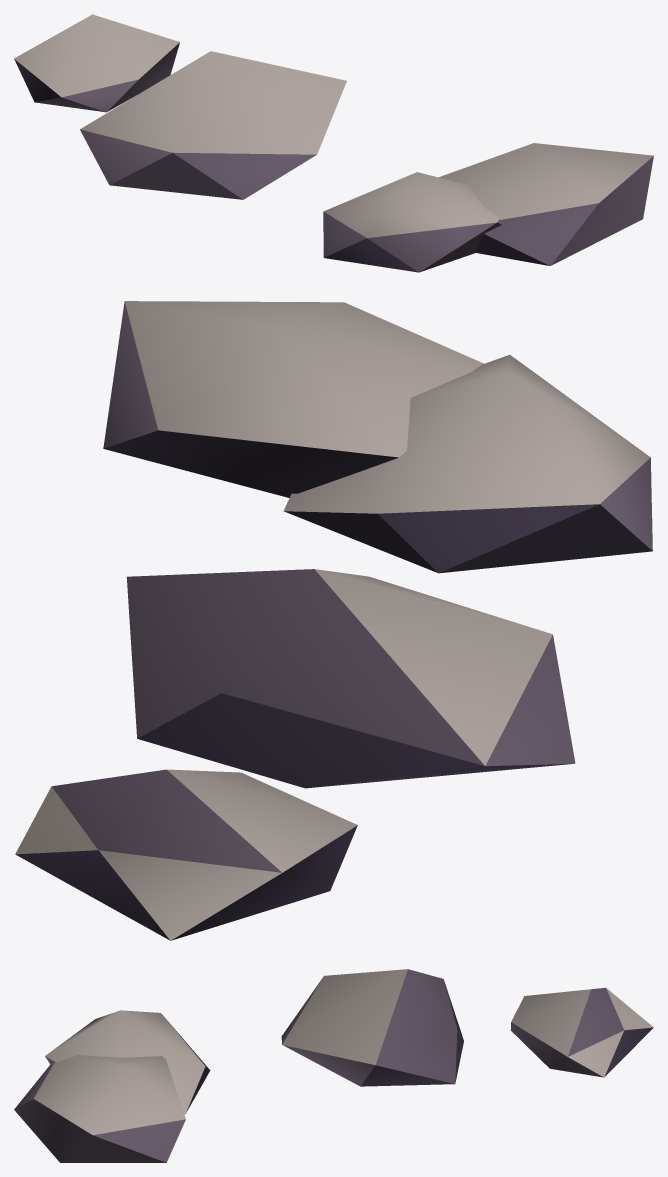
Rendered from PumiceRocks.fbx.
The picture shows the model from 3 angles, top to bottom: view 1: azimuth 30°, elevation 25°; view 2: azimuth 150°, elevation 25°; view 3: azimuth 270°, elevation 25°; orthographic projection. The views are drawn at different scales.
Parts seen in each view (by area): view 1: PumiceRocks; view 2: PumiceRocks; view 3: PumiceRocks.
Boxes of the visible parts, left/top/right/bottom form: PumiceRocks: left=14, top=14, right=653, bottom=272; PumiceRocks: left=15, top=301, right=652, bottom=940; PumiceRocks: left=14, top=969, right=653, bottom=1162.
Size of the model in its own units: 0.6382 by 0.1395 by 0.97.
Materials: 1 (1 with a texture image).
